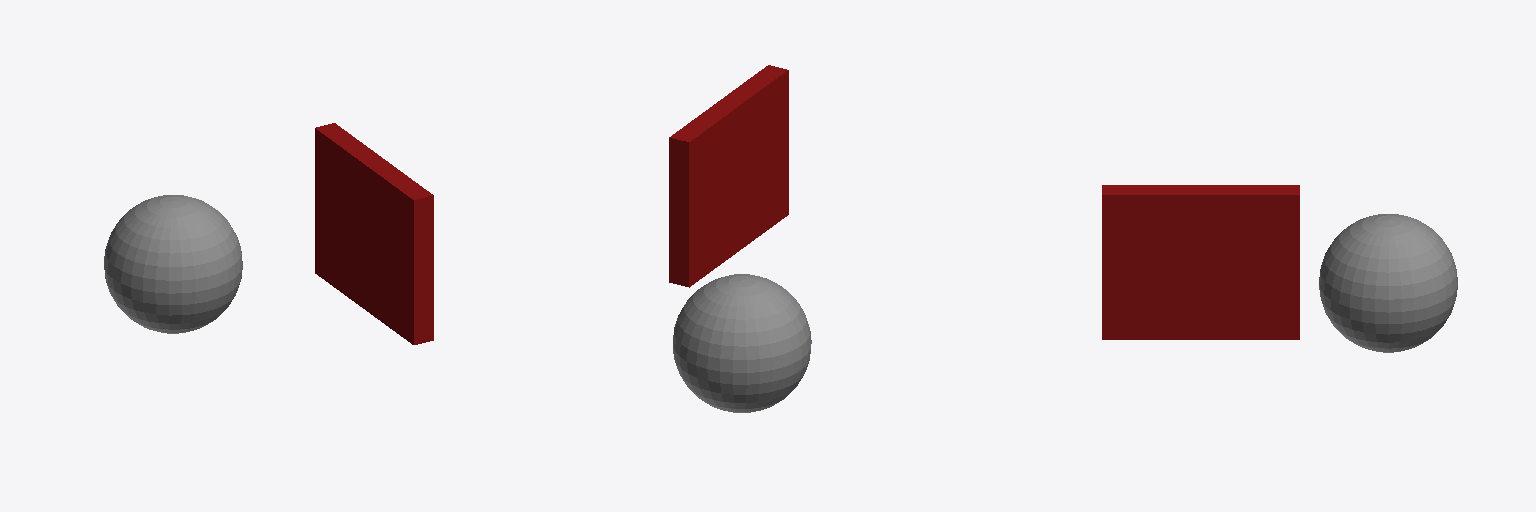
File: cubeandspherewithcolors.obj
3 views of the same model, side by side, from view 1: azimuth 30°, elevation 25°; view 2: azimuth 150°, elevation 25°; view 3: azimuth 270°, elevation 25° (orthographic).
Parts seen in each view (by area): view 1: Box001, Sphere001; view 2: Box001, Sphere001; view 3: Box001, Sphere001.
Part boxes in pixels (left/top/right/bottom): Box001: left=315, top=123, right=433, bottom=344; Sphere001: left=104, top=195, right=242, bottom=333; Box001: left=669, top=65, right=788, bottom=287; Sphere001: left=673, top=274, right=811, bottom=412; Box001: left=1102, top=185, right=1299, bottom=339; Sphere001: left=1319, top=214, right=1457, bottom=352.
Size of the model in its own units: 67.49 by 75.7 by 117.